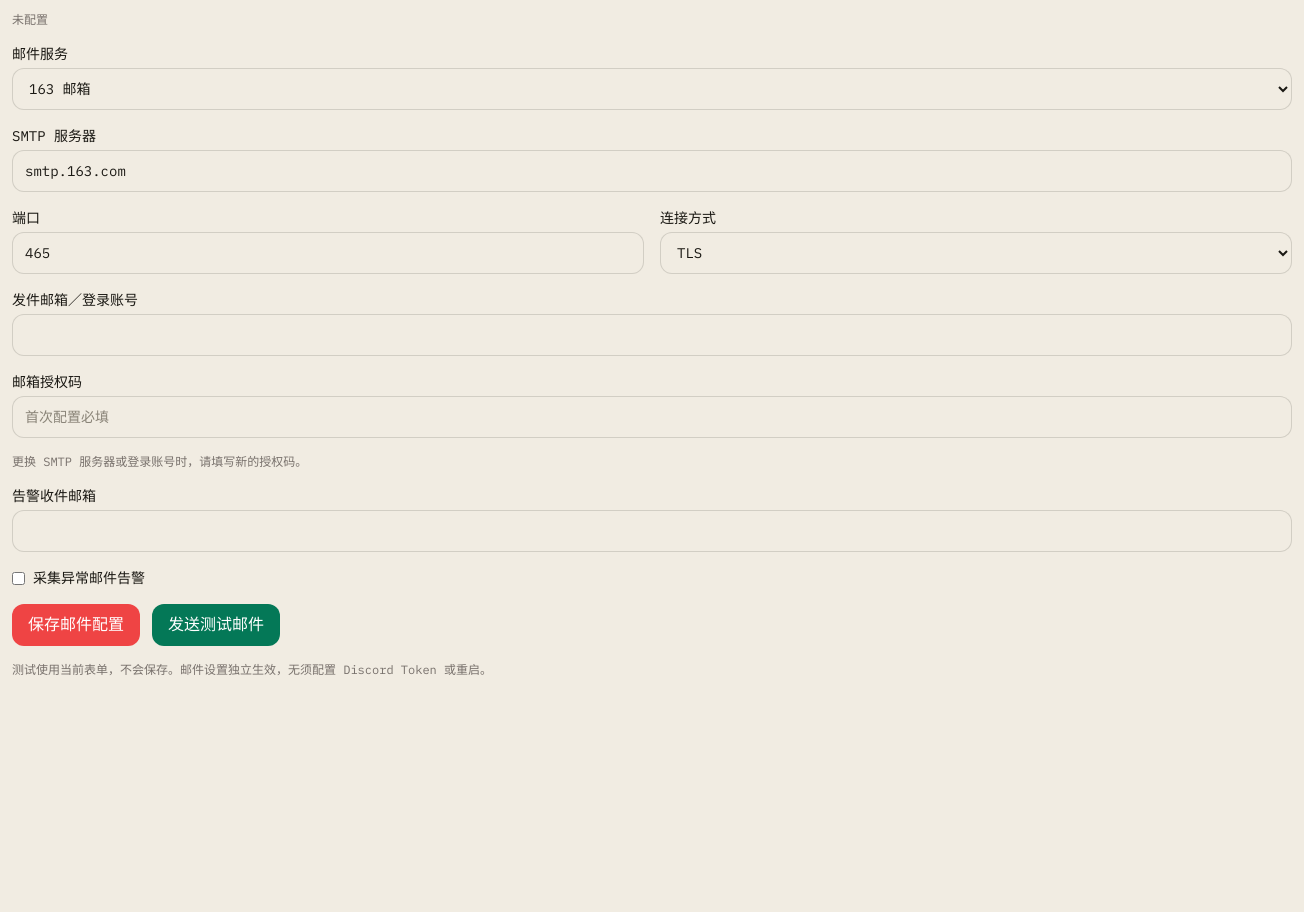
Scenario: tests current unsaved form without saving or changing it on failure
Expected: the button "发送测试邮件" is enabled, 152,604 -> 280,646
Replace the text in the field labelled "SMTP 服务器" with "custom.example.com" at point(652, 171), box 12,150 -> 1292,192
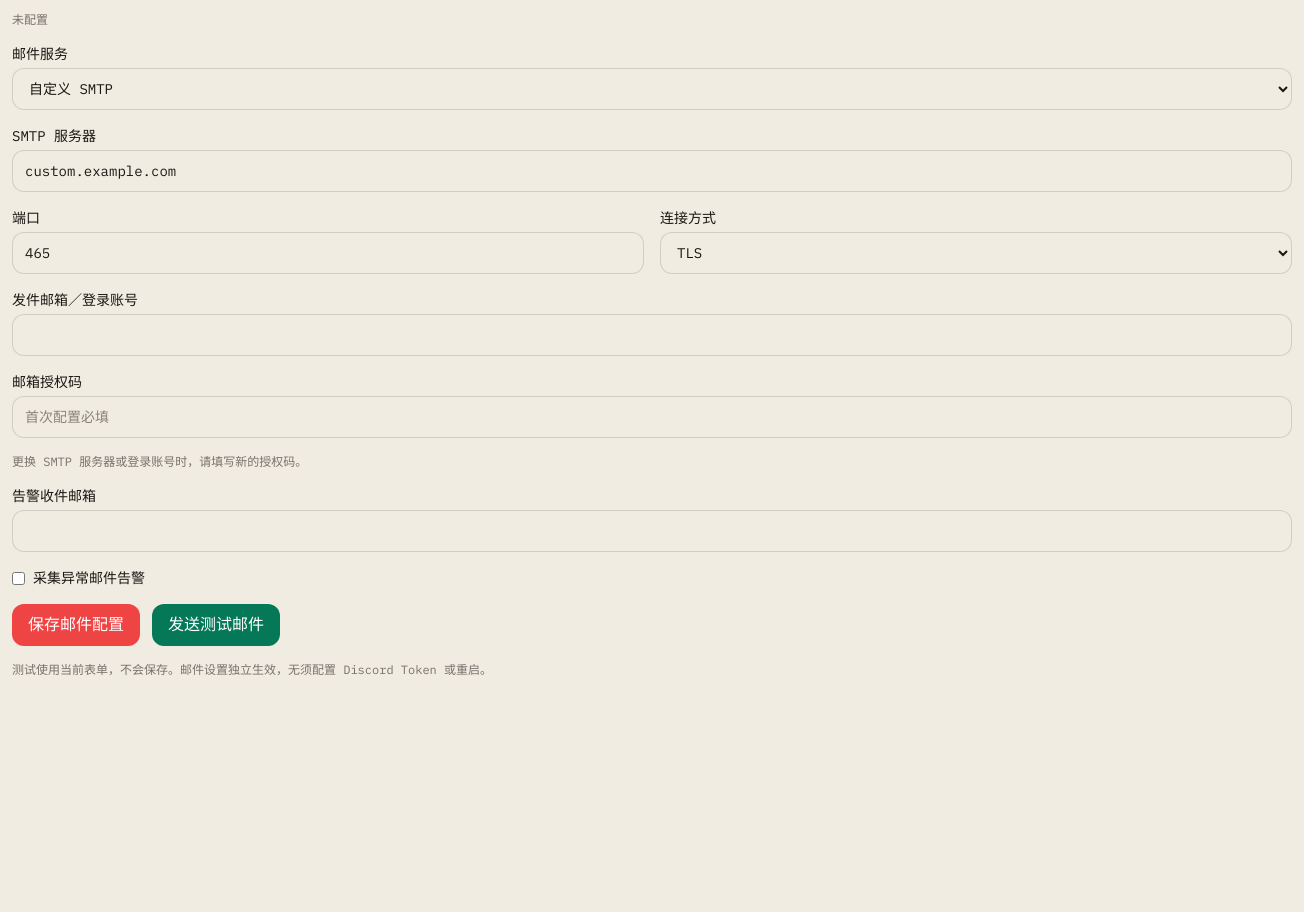
Type "test-only-secret" into the password field labelled "邮箱授权码" at point(652, 417), box 12,396 -> 1292,438
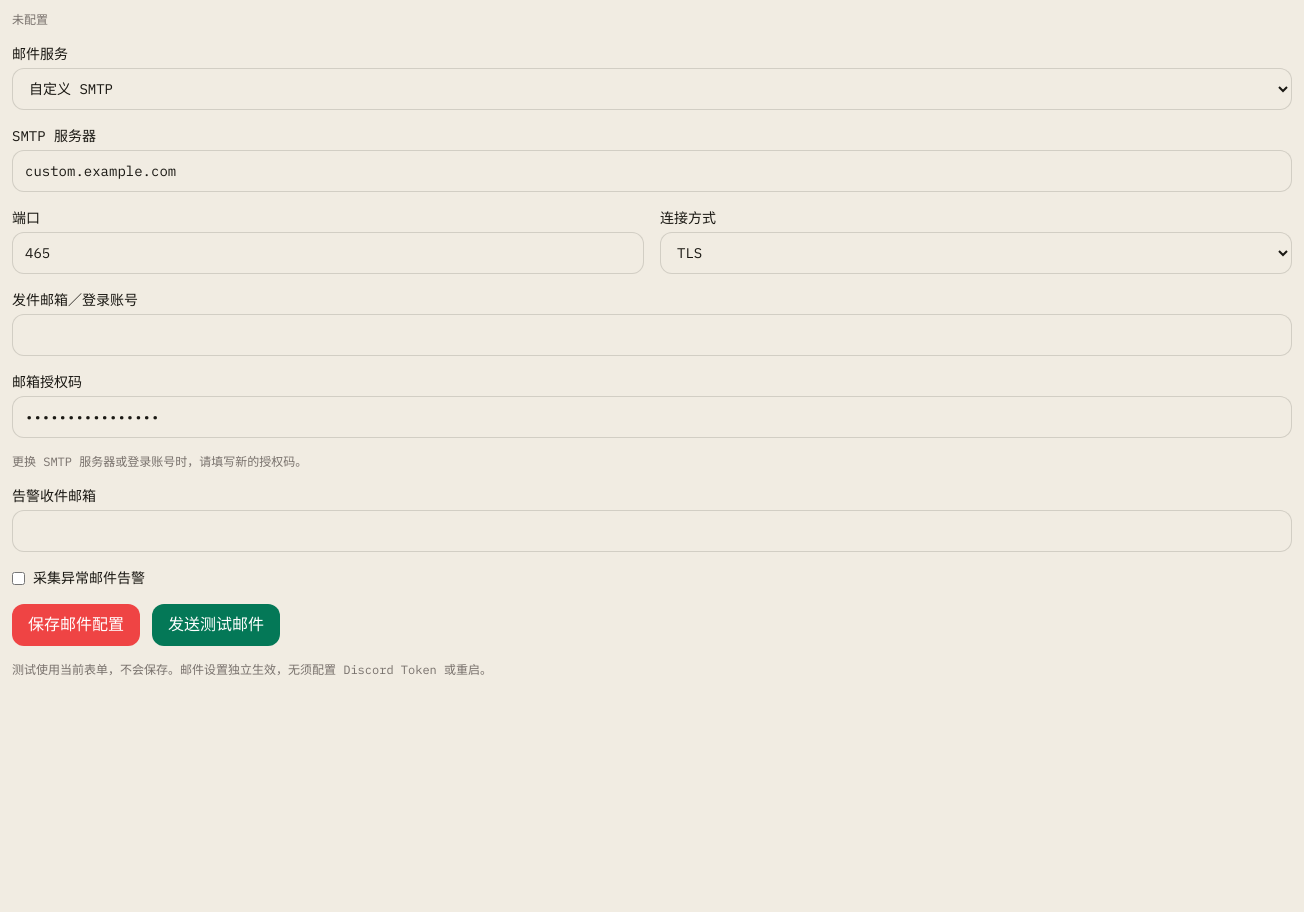
Click the button "发送测试邮件" at point(216, 625), box 152,604 -> 280,646
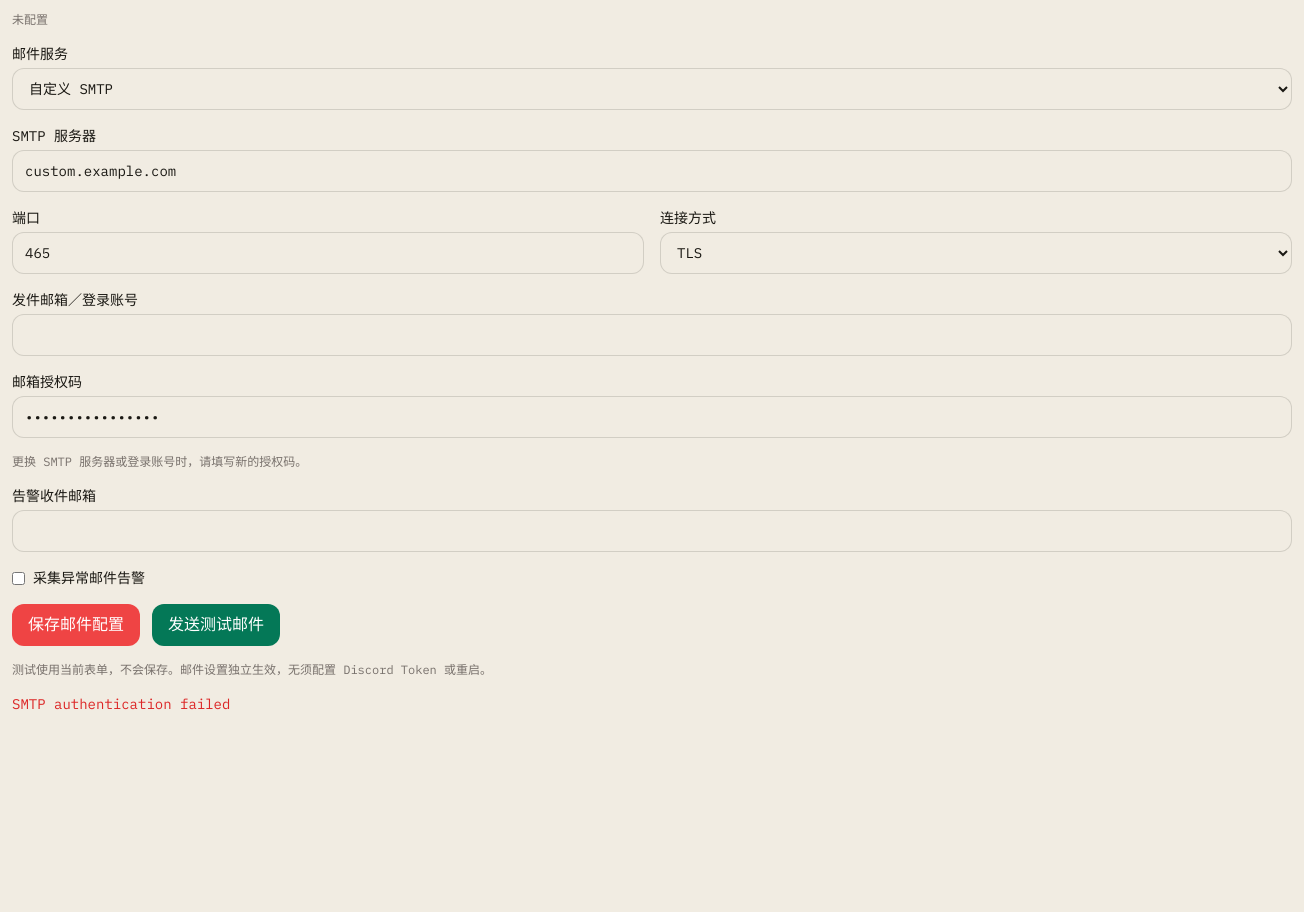
Now the message "SMTP authentication failed" is shown, box 12,695 -> 230,713
